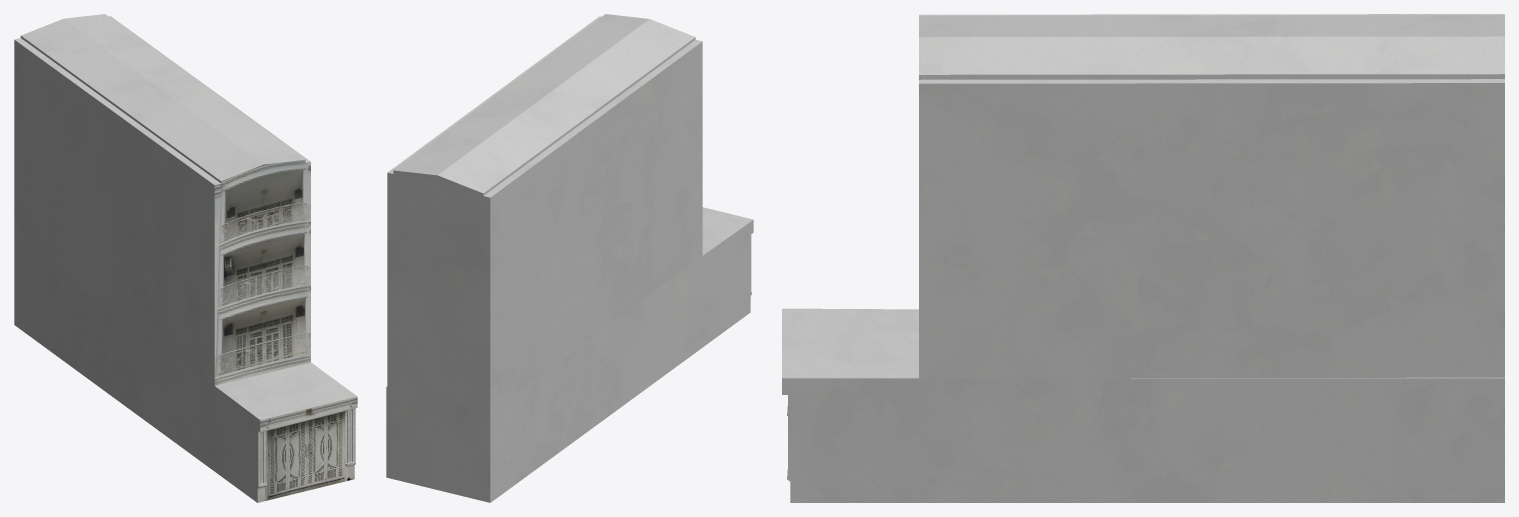
File: RefHouse1.fbx
The picture shows the model from 3 angles, left to right: view 1: azimuth 30°, elevation 25°; view 2: azimuth 150°, elevation 25°; view 3: azimuth 270°, elevation 25°; orthographic projection. The views are drawn at different scales.
Parts seen in each view (by area): view 1: ReferenceHouse1; view 2: ReferenceHouse1; view 3: ReferenceHouse1.
Boxes of the visible parts, x1,y1,x2,y2 form: ReferenceHouse1: (14, 14, 357, 502); ReferenceHouse1: (386, 14, 753, 502); ReferenceHouse1: (782, 14, 1504, 502).
Size of the model in its own units: 476 by 1377 by 2087.
2 materials, 2 textured.
